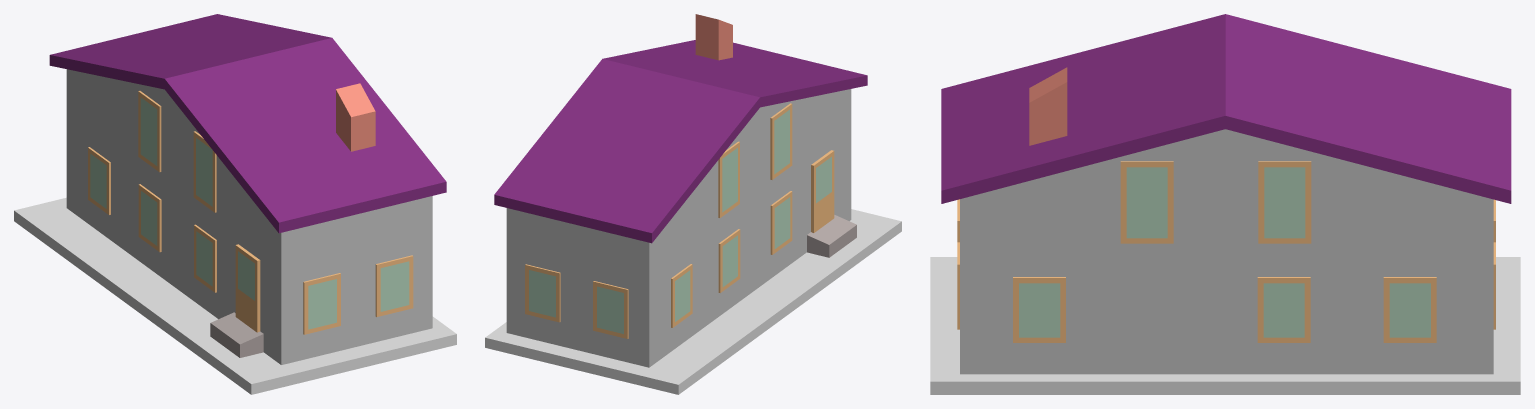
The model's file is Big_House_3.FBX.
The picture shows the model from 3 angles, left to right: view 1: azimuth 30°, elevation 25°; view 2: azimuth 150°, elevation 25°; view 3: azimuth 270°, elevation 25°; orthographic projection. The views are drawn at different scales.
Parts seen in each view (by area): view 1: Box003, Box036; view 2: Box003, Box036; view 3: Box003, Box036.
Boxes of the visible parts, left/top/right/bottom form: Box003: left=49, top=14, right=446, bottom=364; Box036: left=14, top=197, right=456, bottom=394; Box003: left=494, top=14, right=867, bottom=367; Box036: left=485, top=209, right=901, bottom=394; Box003: left=941, top=14, right=1511, bottom=374; Box036: left=930, top=257, right=1520, bottom=394.
Size of the model in its own units: 1 by 1.08 by 2.
